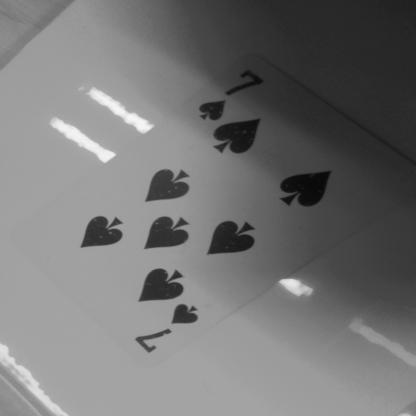7S: (184, 60, 274, 132), (124, 290, 222, 354)
